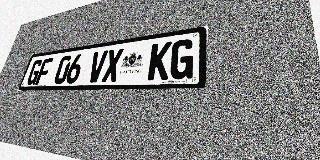0: (53, 55, 73, 84)
6: (64, 53, 85, 84)
F: (35, 58, 53, 85)
G: (169, 38, 195, 80), (25, 59, 44, 85)
K: (147, 41, 172, 80)
V: (86, 50, 108, 83)
X: (101, 48, 124, 82)
